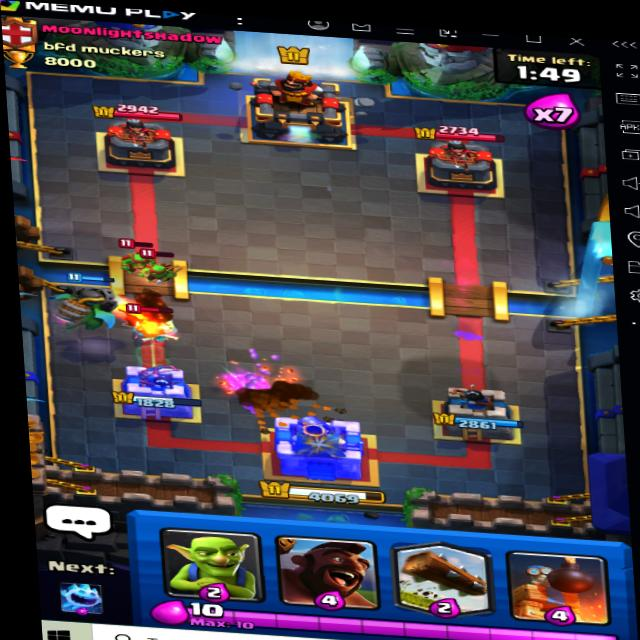monk: (115, 303, 186, 349)
monk-ability: (118, 301, 182, 345)
spear-goblin: (118, 246, 161, 273), (139, 258, 181, 285)
